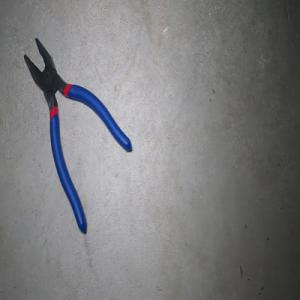Pliers: (23, 37, 131, 233)
